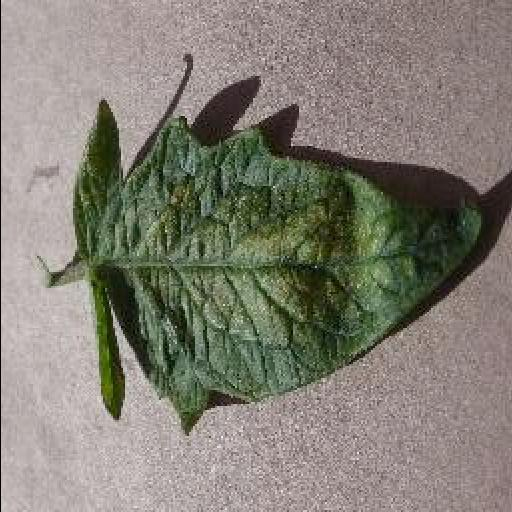disease_tomato: (74, 96, 486, 436)
